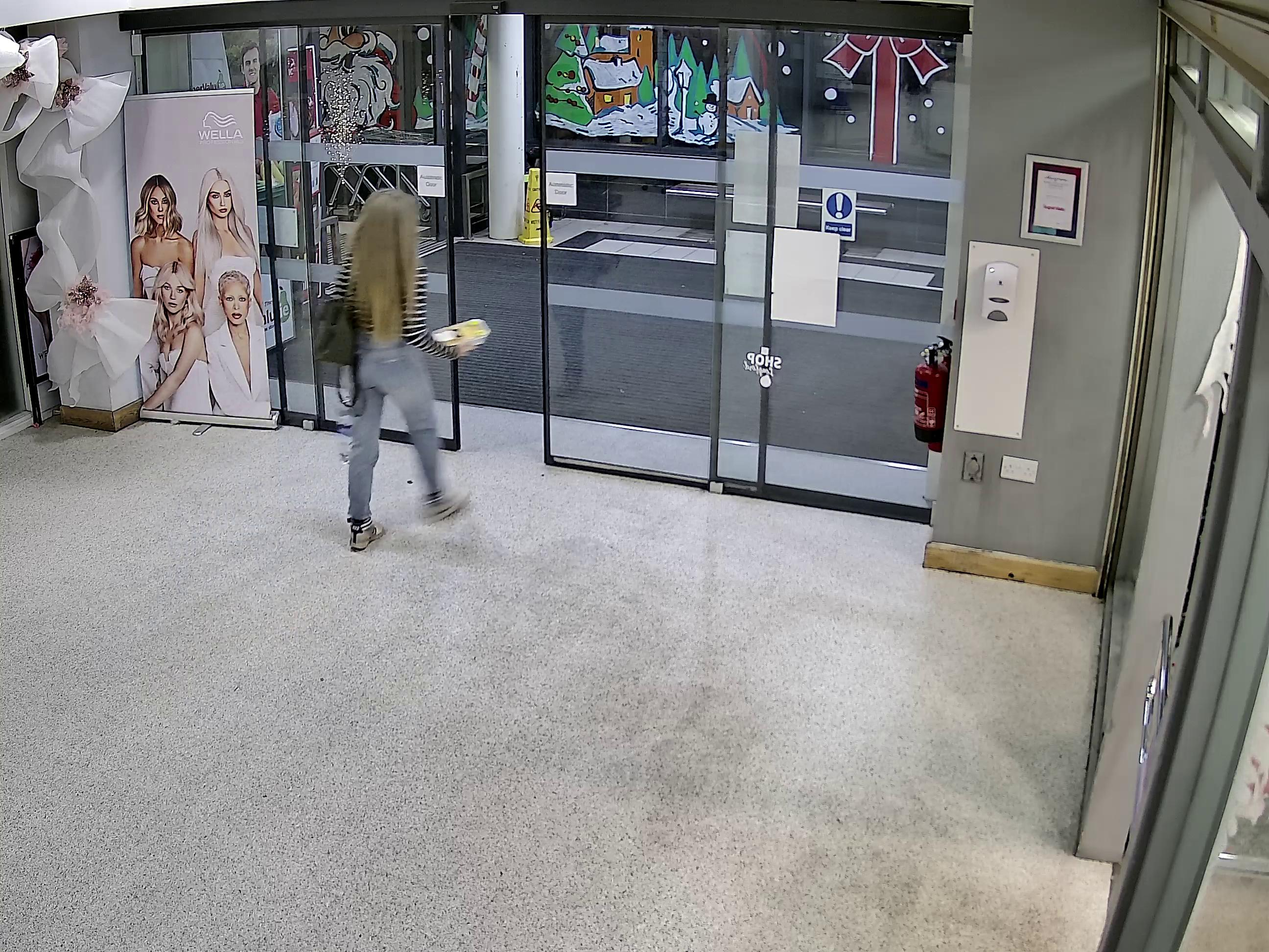backpack-or-handbag: (312, 295, 359, 368)
carrying-item: (429, 316, 492, 356)
person: (332, 190, 468, 552)
person-with-backpack-handbag-and-carrying-item-s-: (311, 188, 492, 551)
